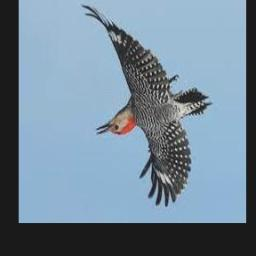Woodpecker: (80, 5, 212, 208)
